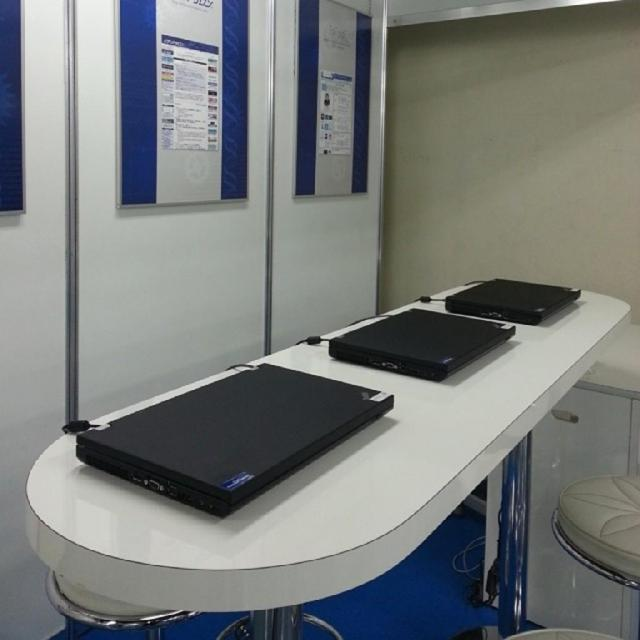Table: (175, 266, 632, 640)
